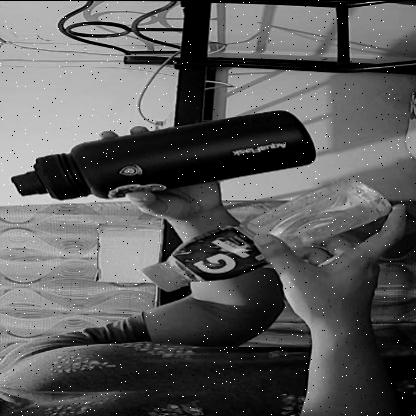Plastic Bottle: (119, 146, 411, 314)
